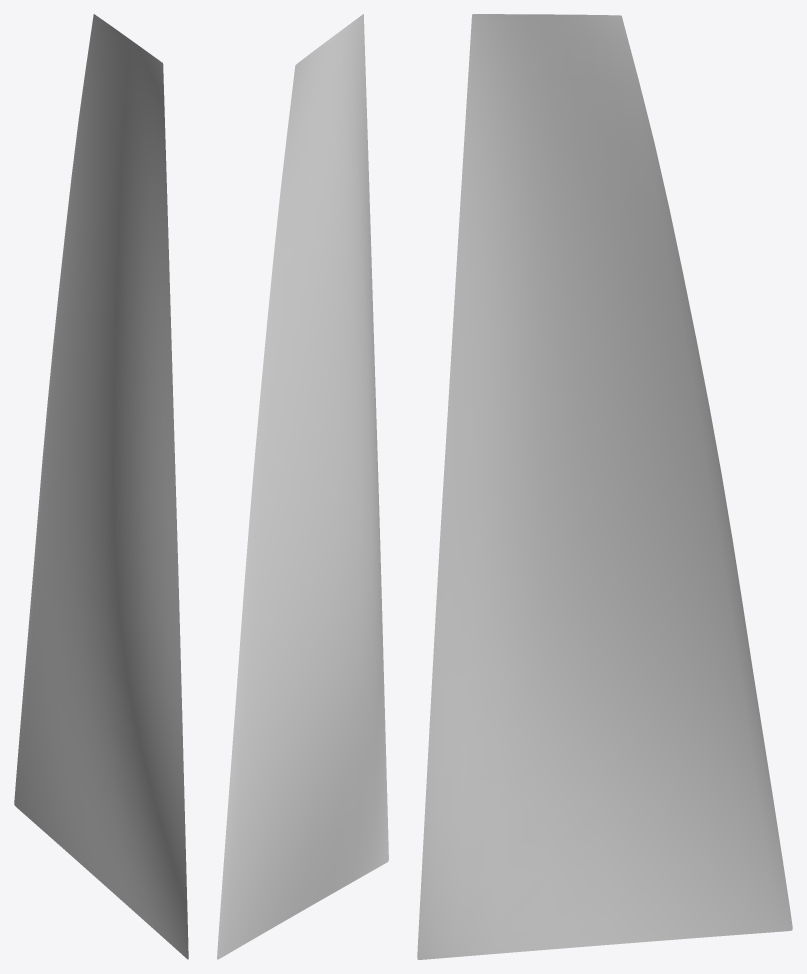
Rendered from sail-main.glb.
3 renders of one model, left to right at view 1: azimuth 30°, elevation 25°; view 2: azimuth 150°, elevation 25°; view 3: azimuth 270°, elevation 25°, orthographic. The views are drawn at different scales.
Visible parts, largest first — view 1: sail.main; view 2: sail.main; view 3: sail.main.
Part boxes in pixels (<box>): sail.main: <box>14,14,188,959</box>; sail.main: <box>217,14,388,959</box>; sail.main: <box>417,14,792,959</box>.
Bounding box in the file's own units: 0.5201 × 16.73 × 6.02.
1 material, 1 textured.
